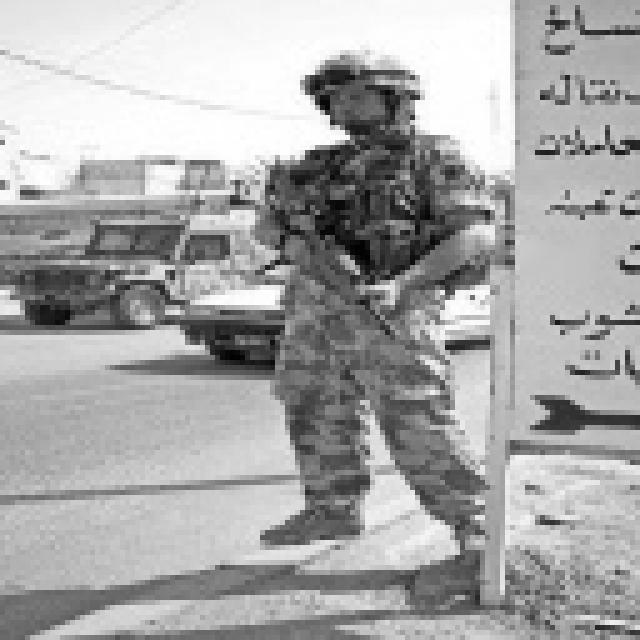Rifle: (242, 151, 436, 390)
